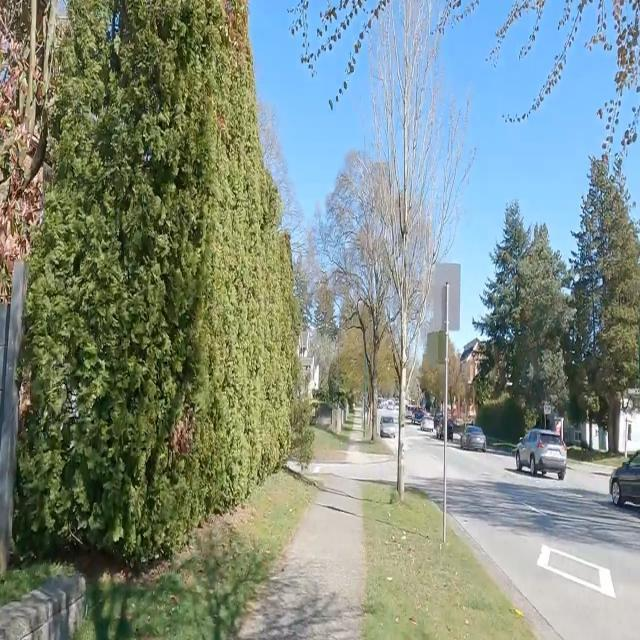Automobile: (516, 428, 566, 479), (609, 451, 639, 504), (460, 426, 486, 451), (381, 411, 396, 436)
Obstacle: (423, 263, 460, 543), (396, 369, 404, 499), (368, 373, 377, 440)
Road: (448, 445, 639, 639), (405, 426, 441, 500), (311, 461, 395, 482), (289, 463, 299, 472)
Sidewalk: (240, 474, 364, 639), (348, 405, 388, 462)
